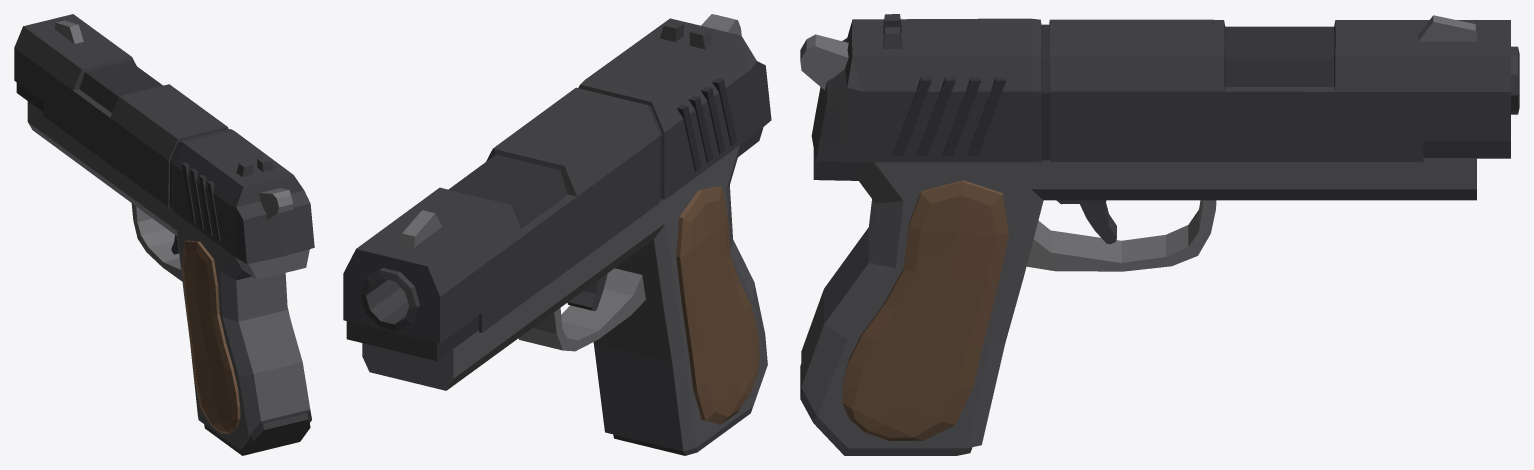
Rendered from gun_pistol.glb.
3 renders of one model, left to right at view 1: azimuth 30°, elevation 25°; view 2: azimuth 150°, elevation 25°; view 3: azimuth 270°, elevation 25°, orthographic. The views are drawn at different scales.
Parts seen in each view (by area): view 1: pistol; view 2: pistol; view 3: pistol.
Boxes of the visible parts, x1,y1,x2,y2 form: pistol: (14, 14, 314, 455); pistol: (343, 14, 771, 455); pistol: (800, 14, 1519, 455).
Bounding box in the file's own units: 0.0382 × 0.1373 × 0.215.
